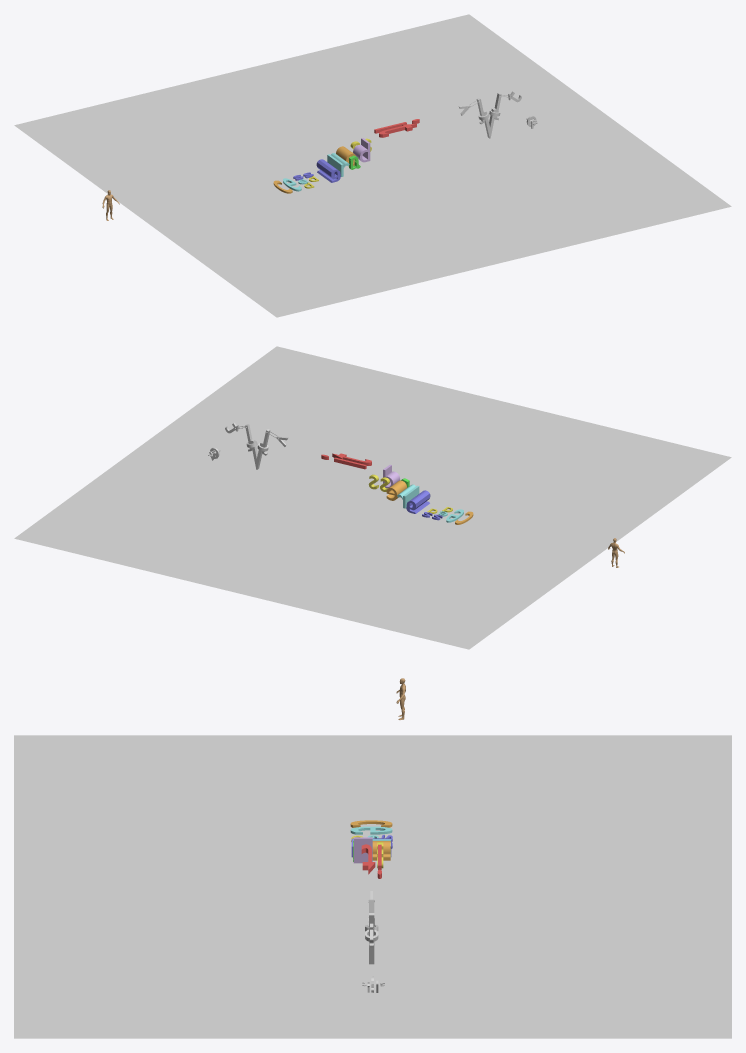
Rendered from 词根建模.glb.
3 views of the same model, one above another, from view 1: azimuth 30°, elevation 25°; view 2: azimuth 150°, elevation 25°; view 3: azimuth 270°, elevation 25° (orthographic). The views are drawn at different scales.
Visible parts, largest first — view 1: 平面, gre/gress/gred/grad, vol/volt/volv; view 2: 平面, gre/gress/gred/grad, vol/volt/volv; view 3: 平面, gre/gress/gred/grad, cess/ceed/ced.
Part boxes in pixels (box(x1,y1,x2,y2)): 平面: box(14, 14, 731, 317); gre/gress/gred/grad: box(316, 138, 371, 182); vol/volt/volv: box(458, 91, 521, 138); 平面: box(14, 346, 731, 649); gre/gress/gred/grad: box(368, 464, 430, 513); vol/volt/volv: box(225, 422, 287, 469); 平面: box(14, 735, 731, 1038); gre/gress/gred/grad: box(351, 837, 391, 868); cess/ceed/ced: box(350, 820, 392, 848).
Bounding box in the file's own units: 30.71 × 2.53 × 28.6.
10 materials, 1 textured.
